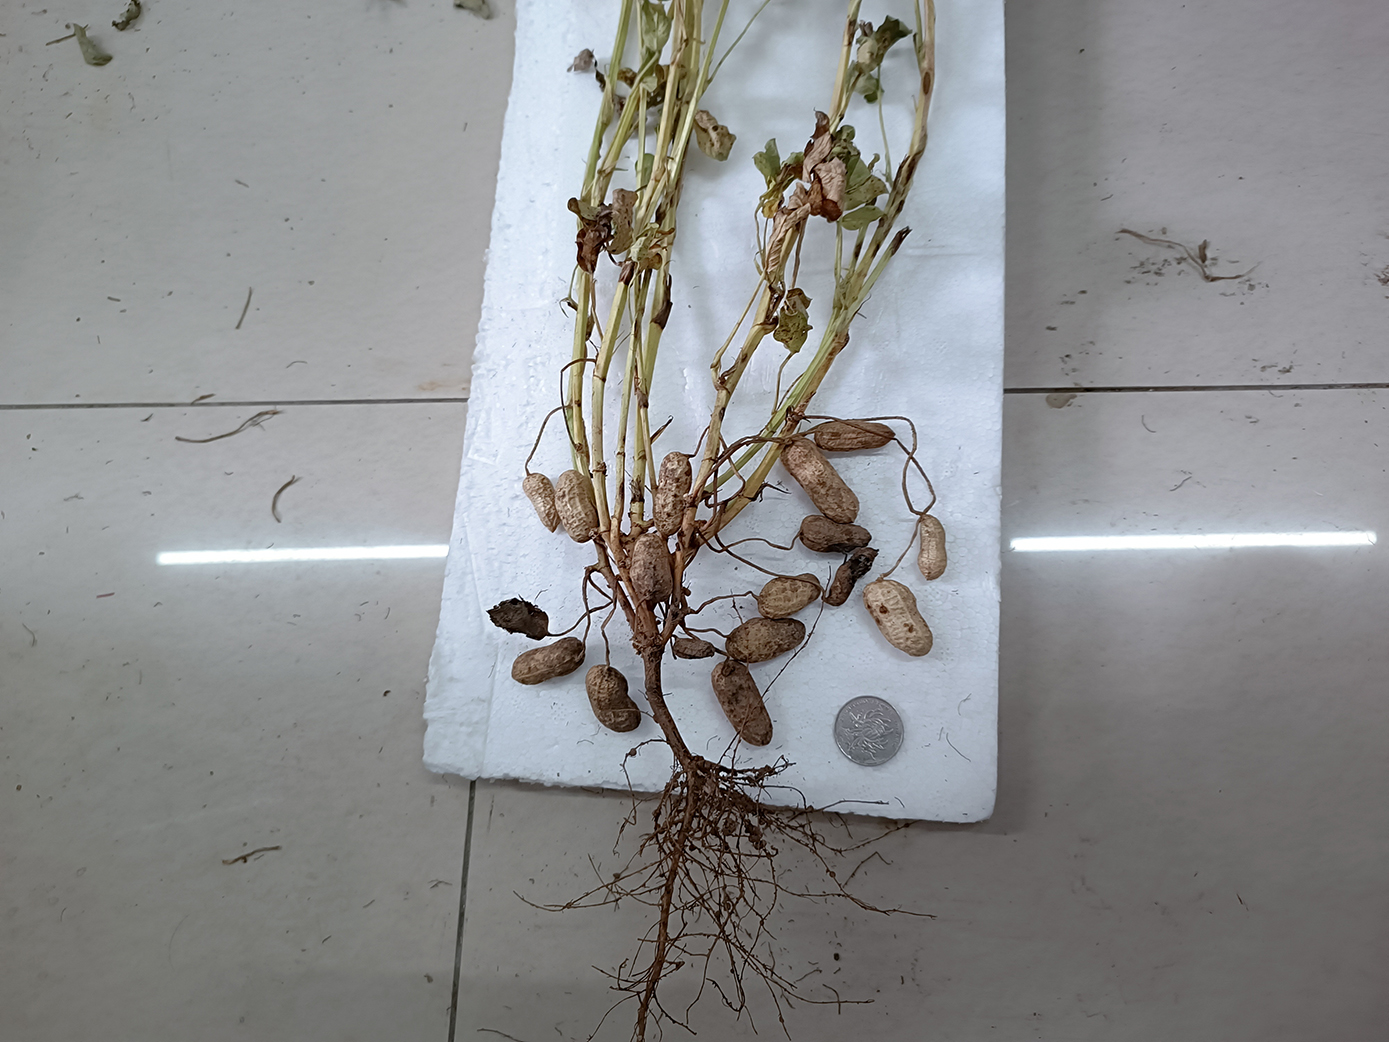h: (780, 438, 860, 523), (863, 579, 933, 657), (584, 664, 641, 732), (555, 470, 600, 543), (757, 572, 821, 620), (630, 533, 673, 602), (523, 472, 560, 533), (917, 513, 946, 582)
l: (710, 659, 773, 746), (725, 617, 806, 664), (512, 637, 584, 686), (652, 451, 693, 536), (825, 547, 879, 606), (485, 593, 548, 640), (799, 514, 872, 552), (814, 419, 896, 452), (673, 637, 715, 660)
